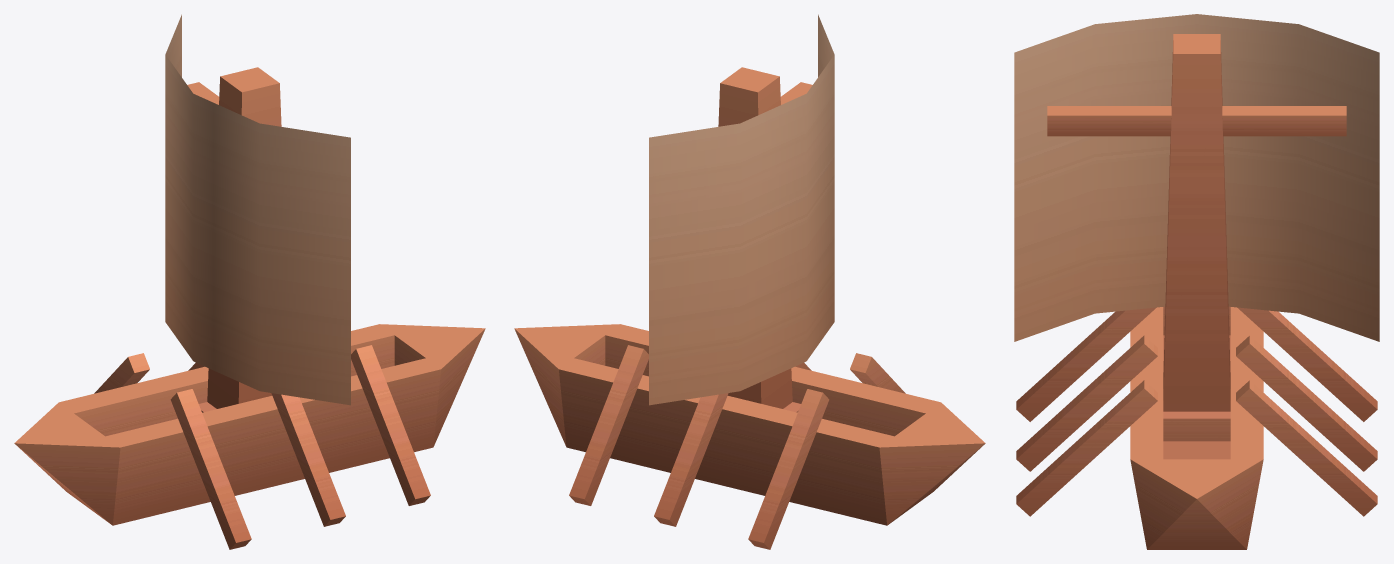
Rendered from unit-ship-large.glb.
3 renders of one model, left to right at view 1: azimuth 30°, elevation 25°; view 2: azimuth 150°, elevation 25°; view 3: azimuth 270°, elevation 25°, orthographic. The views are drawn at different scales.
Parts seen in each view (by area): view 1: unit-ship-large; view 2: unit-ship-large; view 3: unit-ship-large.
Part boxes in pixels (x1,y1,x2,y2): unit-ship-large: (14, 14, 485, 549); unit-ship-large: (514, 14, 985, 549); unit-ship-large: (1014, 14, 1379, 549).
Size of the model in its own units: 0.645 by 0.5096 by 0.4.
Materials: 1 (1 with a texture image).
